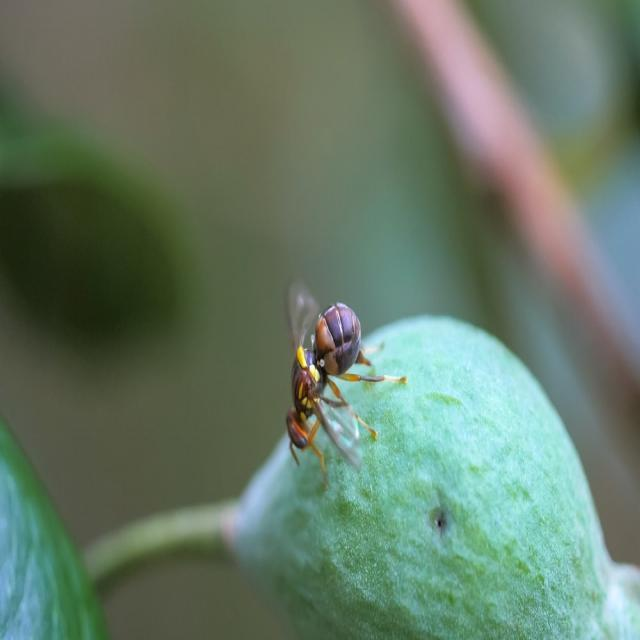Fruit fly: (285, 263, 411, 487)
